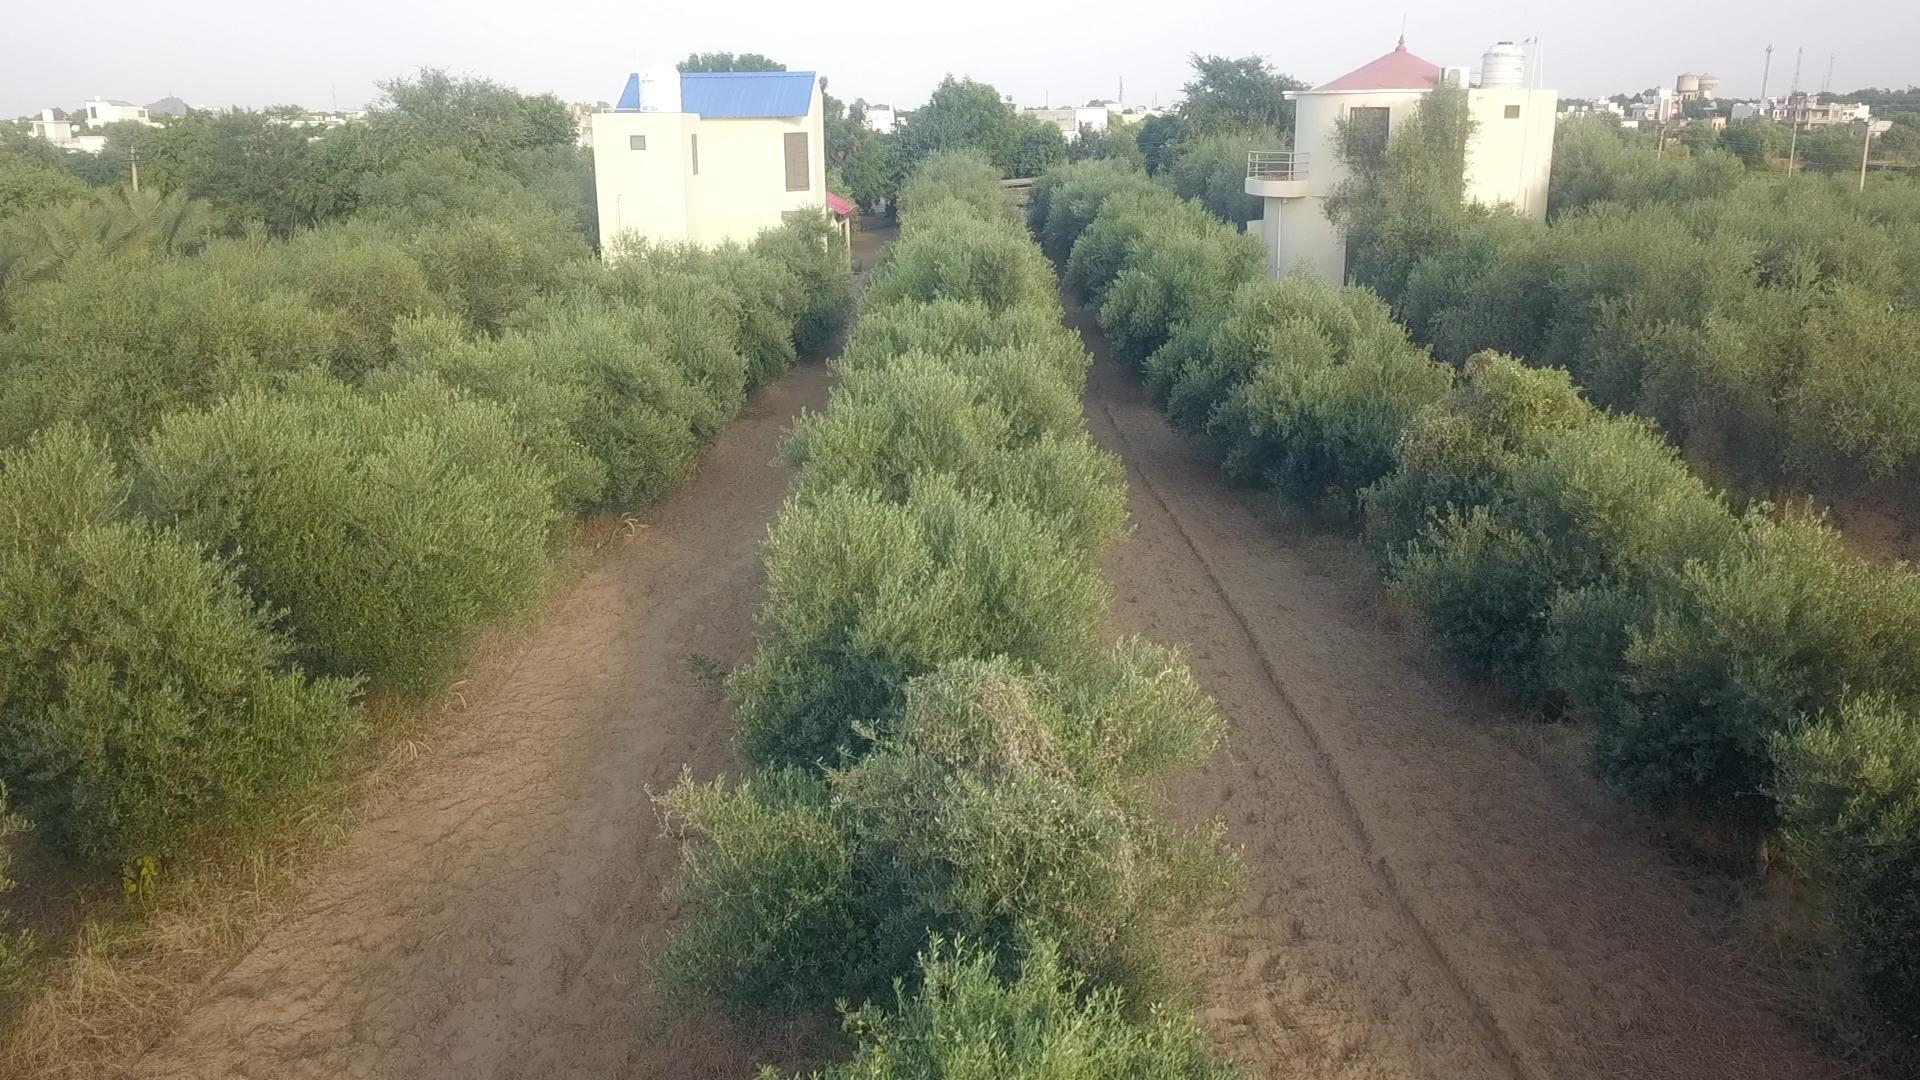canopy: (1030, 160, 1919, 1033), (0, 235, 847, 864), (659, 169, 1244, 1079), (1348, 207, 1919, 516), (0, 220, 587, 448)
road: (1087, 360, 1845, 1079), (131, 364, 831, 1079)
